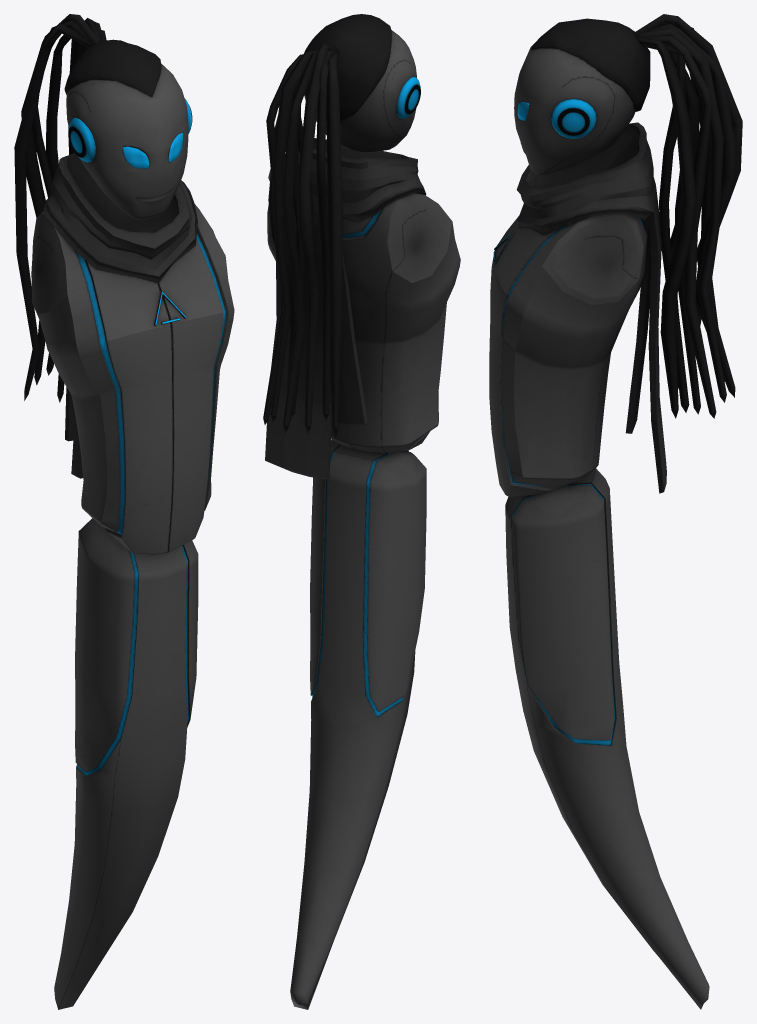
File: bruce.obj
3 renders of one model, left to right at view 1: azimuth 30°, elevation 25°; view 2: azimuth 150°, elevation 25°; view 3: azimuth 270°, elevation 25°, orthographic. The views are drawn at different scales.
Parts seen in each view (by area): view 1: Body.004; view 2: Body.004; view 3: Body.004.
Boxes of the visible parts, <box> form: Body.004: <box>14,14,234,1009</box>; Body.004: <box>263,14,460,1009</box>; Body.004: <box>489,14,742,1009</box>.
Bounding box in the file's own units: 0.0296 × 0.1692 × 0.0393.
1 material, 1 textured.
